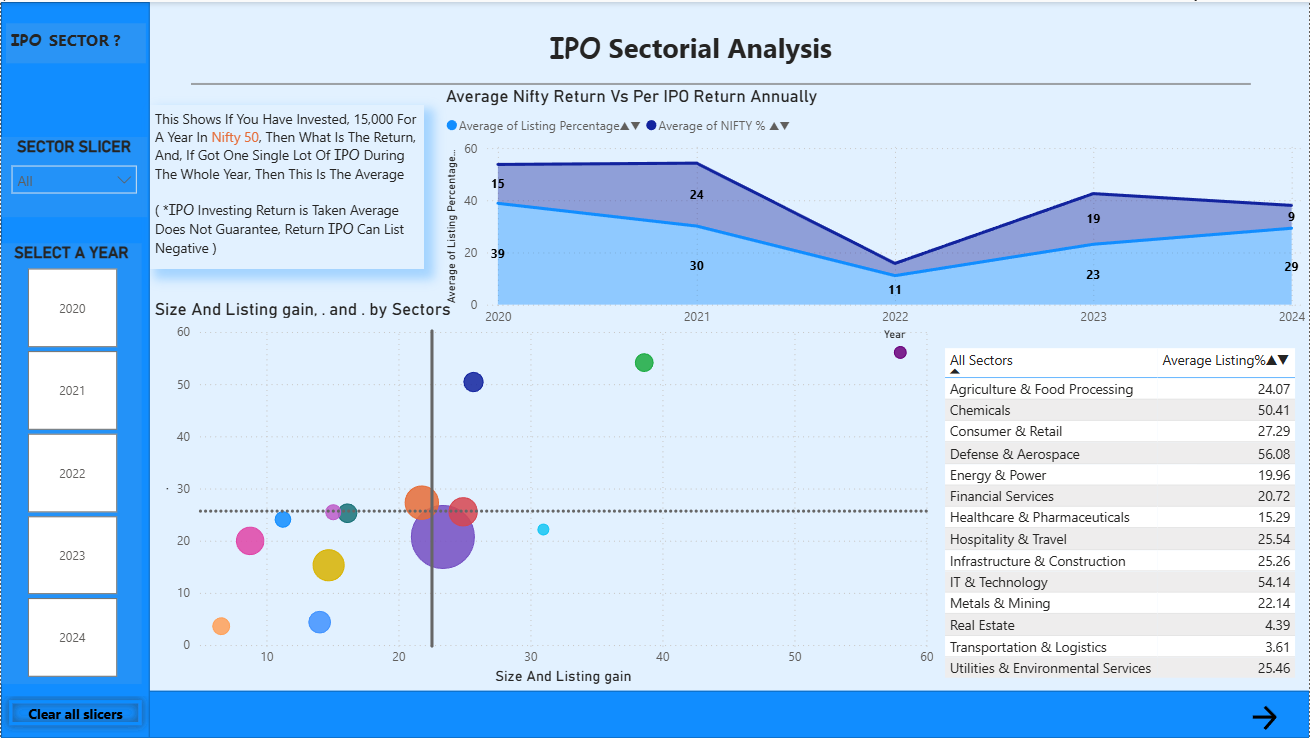

The page's visual inventory and layout, read from the dashboard file:
{"tool":"powerbi","page":{"name":"IPO Sectorial Analysis","canvas":[1280,720],"ordinal":3},"visuals":[{"type":"shape","box":[124.7,673.8,1155.6,46.5],"z":0},{"type":"shape","box":[0,0,145.5,720.2],"z":1000},{"type":"slicer","title":"SELECT A YEAR","fields":{"Values":["Table 1 (data for analysis).YEAR▲▼"]},"box":[0,236.5,137.7,431.3],"z":2000},{"type":"actionButton","box":[0,675,145.5,40.4],"z":3000},{"type":"actionButton","box":[1214.3,679.6,45.2,40.4],"z":4000},{"type":"textbox","box":[4.9,20.8,137,39.1],"z":5000},{"type":"slicer","title":"SECTOR SLICER","fields":{"Values":["Table1.Standardized Sector▲▼"]},"box":[0,131.9,142.9,78.3],"z":6000},{"type":"scatterChart","fields":{"X":["Avg(Table 1 (data for analysis).RETAIL SUBS TIMES(X))"],"Y":["Avg(Table 1 (data for analysis).Listing Percentage▲▼)"],"Category":["Table1.Standardized Sector▲▼"],"Size":["Sum(Table 1 (data for analysis).IPO Size in ▲▼)"]},"box":[145.6,289.8,772,383.3],"z":7000},{"type":"tableEx","fields":{"Values":["Table1.Standardized Sector▲▼","Avg(Table 1 (data for analysis).Listing Percentage▲▼)"]},"box":[917.6,333.8,362.7,340.7],"z":8000},{"type":"shape","box":[185.4,39.8,1037.1,79.7],"z":9000},{"type":"textbox","box":[531.9,20.8,302,61.1],"z":10000},{"type":"stackedAreaChart","title":"Average Nifty Return Vs Per IPO Return Annually","fields":{"Category":["Table 1 (data for analysis).Open▲▼.Variation.Date Hierarchy.Year","Table 1 (data for analysis).Open▲▼.Variation.Date Hierarchy.Quarter","Table 1 (data for analysis).Open▲▼.Variation.Date Hierarchy.Month","Table 1 (data for analysis).Open▲▼.Variation.Date Hierarchy.Day"],"Y":["Avg(Table 1 (data for analysis).Listing Percentage▲▼)","Avg(Table 1 (data for analysis).NIFTY % ▲▼)"]},"box":[430,82.4,850.3,254.1],"z":11000},{"type":"textbox","box":[145.6,100.3,267.9,160.7],"z":12000}]}

Visuals, with their boxes in screenshot pixels (x1, y1, x2, y2), scaled from the page's 1280x720 canvas onto the 1310x738 screenshot:
shape: detection(128, 691, 1309, 737)
shape: detection(0, 0, 149, 737)
"SELECT A YEAR" slicer: detection(0, 242, 141, 684)
actionButton: detection(0, 692, 149, 733)
actionButton: detection(1243, 697, 1289, 737)
textbox: detection(5, 21, 145, 61)
"SECTOR SLICER" slicer: detection(0, 135, 146, 215)
scatterChart - Avg(Table 1 (data for analysis).RETAIL SUBS TIMES(X)) x Avg(Table 1 (data for analysis).Listing Percentage▲▼): detection(149, 297, 939, 690)
tableEx - Table1.Standardized Sector▲▼ x Avg(Table 1 (data for analysis).Listing Percentage▲▼): detection(939, 342, 1309, 691)
shape: detection(190, 41, 1251, 122)
textbox: detection(544, 21, 853, 84)
"Average Nifty Return Vs Per IPO Return Annually" stackedAreaChart: detection(440, 84, 1309, 345)
textbox: detection(149, 103, 423, 268)
